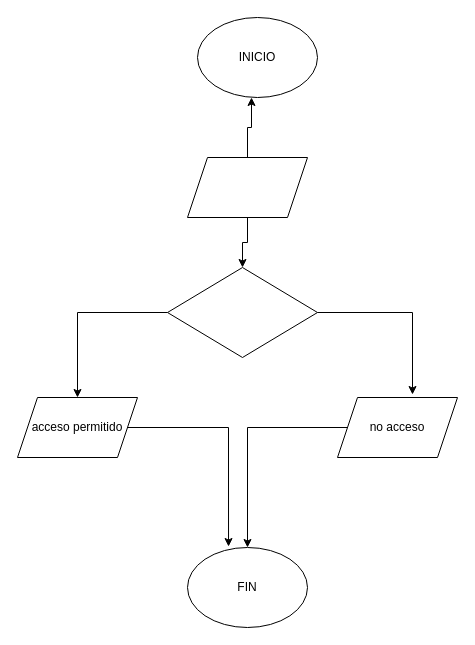
This 475x645 diagram has some shape labels left out. The centre of each missing label's shape, as x and y in pixels:
Ingresa la contraseña: the point at 247,187
Tu contraseña es correcta: the point at 242,312
